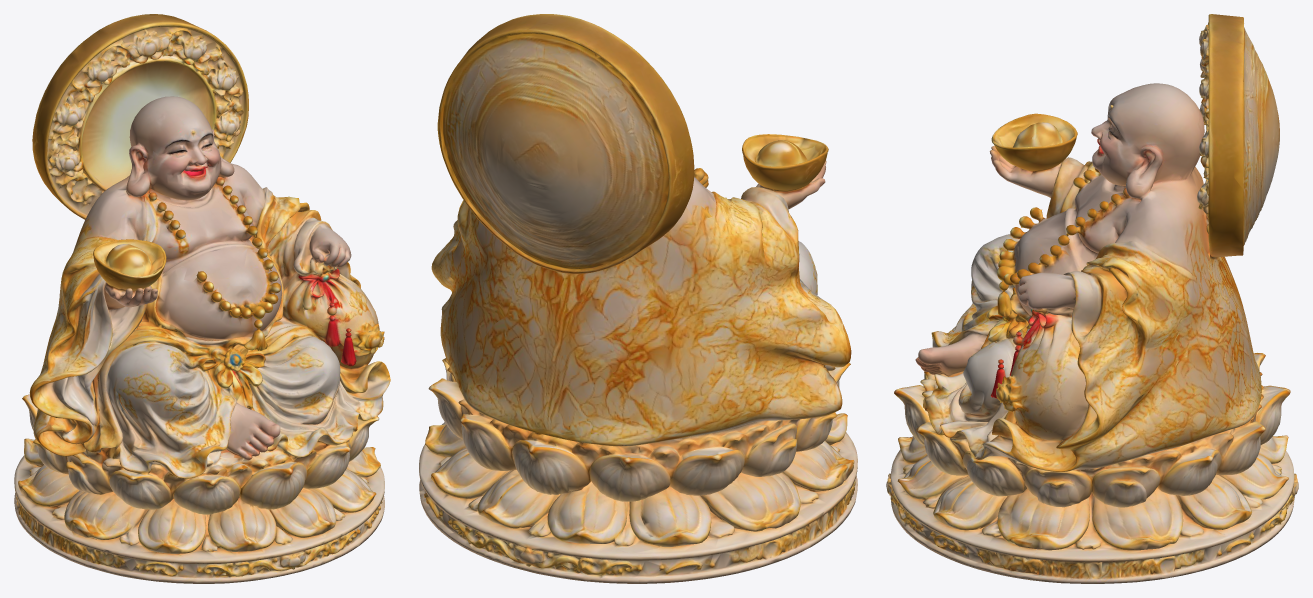
3 renders of one model, left to right at view 1: azimuth 30°, elevation 25°; view 2: azimuth 150°, elevation 25°; view 3: azimuth 270°, elevation 25°, orthographic. The views are drawn at different scales.
Parts seen in each view (by area): view 1: owner-collection20-12; view 2: owner-collection20-12; view 3: owner-collection20-12.
Part boxes in pixels (x1=…): owner-collection20-12: x1=14, y1=14, x2=390, y2=583; owner-collection20-12: x1=419, y1=14, x2=857, y2=583; owner-collection20-12: x1=886, y1=14, x2=1298, y2=583.
Bounding box in the file's own units: 0.8209 × 0.9998 × 0.7853.
Materials: 1 (1 with a texture image).
